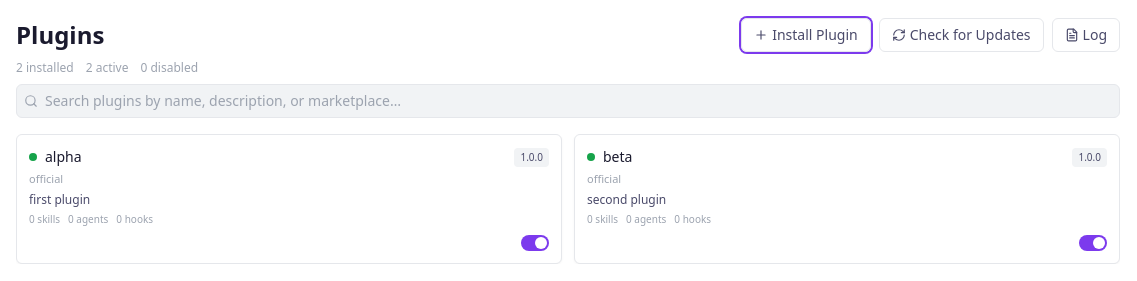
Scenario: PluginListView › search filters the grid and shows a no-matches message
The width and height of the screenshot is (1137, 281).
Type "alpha" into the search field with test id "plugin-search" at {"x": 568, "y": 101}, box [16,84,1120,118]
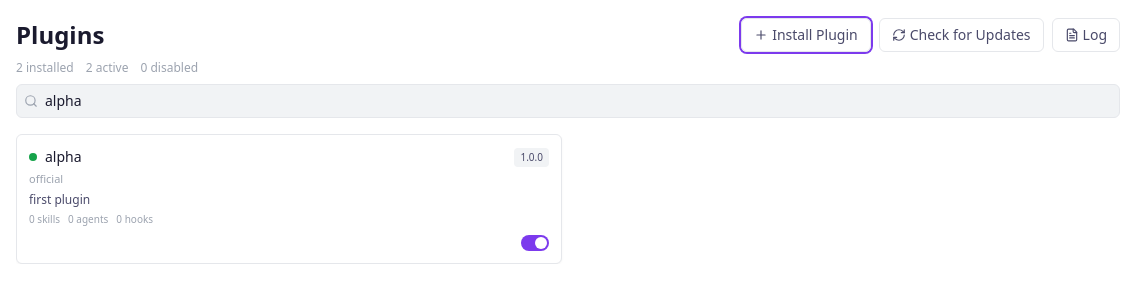
Expected: the number of elements with test id "plugin-card" is 1, [16,134,562,264]
Replace the text in the search field with test id "plugin-search" with "zzz" at {"x": 568, "y": 101}, box [16,84,1120,118]
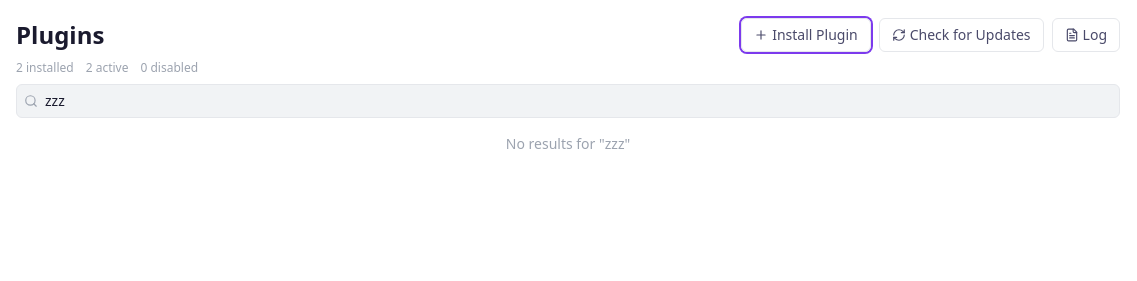
Expected: the message "No results for \"zzz\"" is shown, [506,134,630,153]
